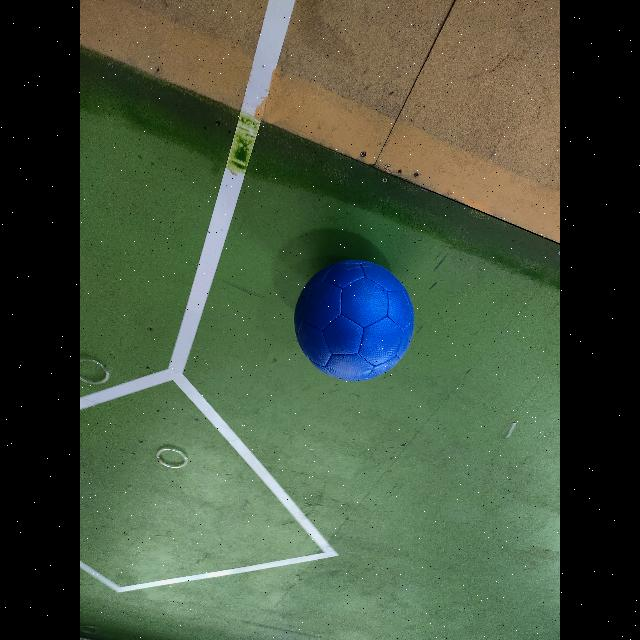B: (294, 260, 414, 382)
